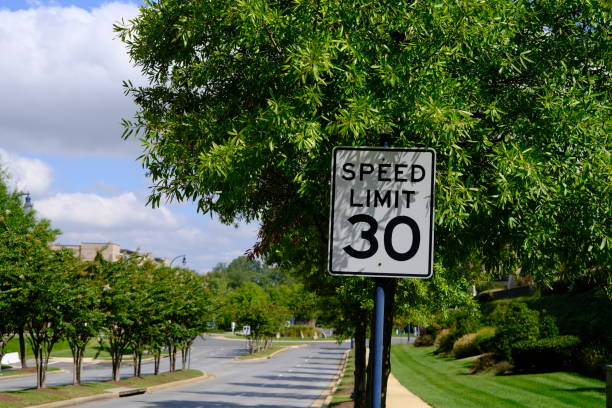SpeedLimitSign: (327, 144, 435, 279)
